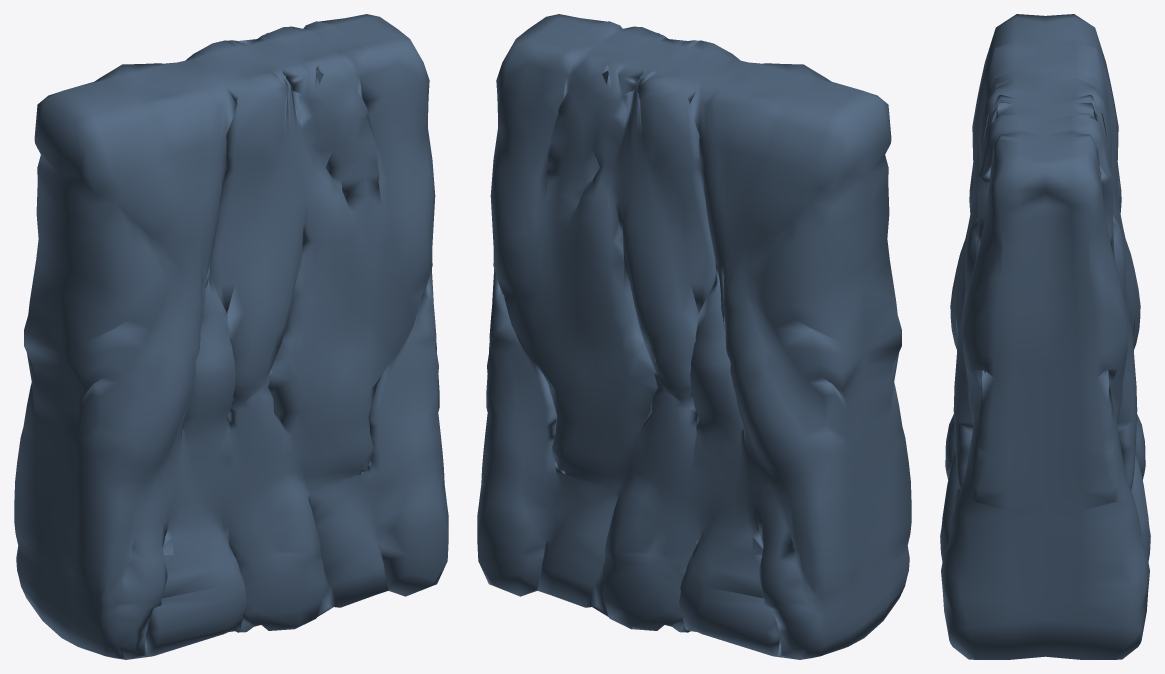
File: Wall.Basic.DoubleSided.004.dae
3 renders of one model, left to right at view 1: azimuth 30°, elevation 25°; view 2: azimuth 150°, elevation 25°; view 3: azimuth 270°, elevation 25°, orthographic. The views are drawn at different scales.
Visible parts, largest first — view 1: Plane.001; view 2: Plane.001; view 3: Plane.001.
Boxes of the visible parts, x1,y1,x2,y2 form: Plane.001: [14, 14, 448, 659]; Plane.001: [477, 14, 911, 659]; Plane.001: [940, 14, 1150, 659].
Size of the model in its own units: 12.87 by 7.1 by 18.66.
